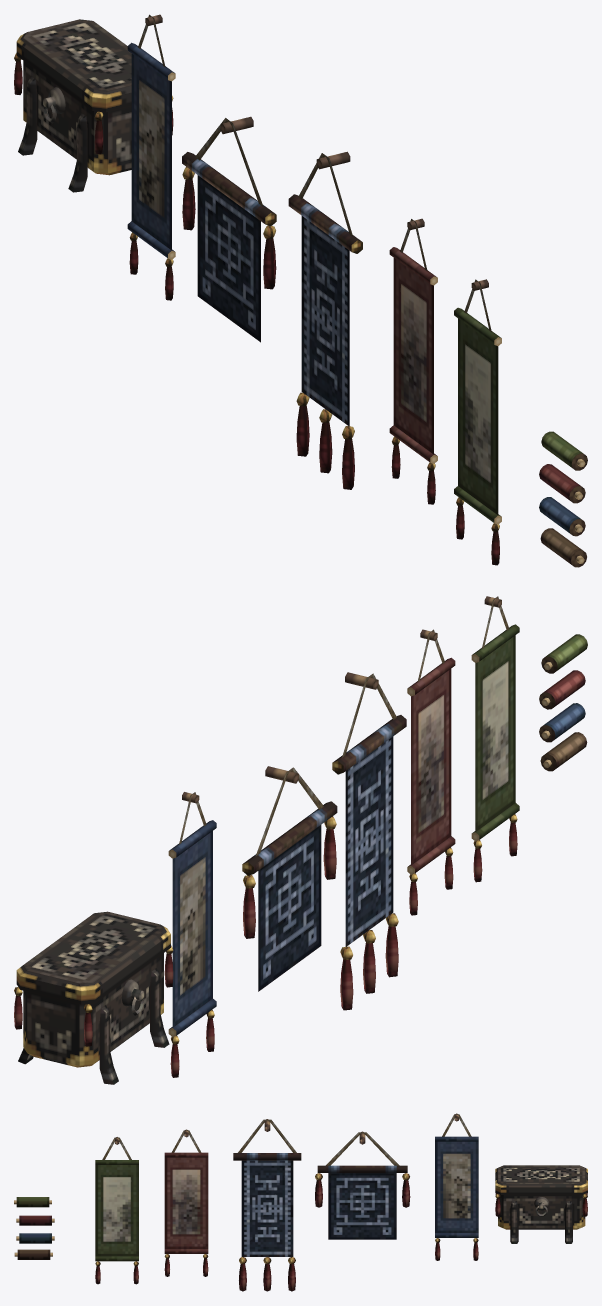
File: EnvObjMD_Treasure_B_ClothesBox_A.FBX
The picture shows the model from 3 angles, top to bottom: view 1: azimuth 30°, elevation 25°; view 2: azimuth 150°, elevation 25°; view 3: azimuth 270°, elevation 25°; orthographic projection. The views are drawn at different scales.
Parts seen in each view (by area): view 1: EnvObjMD_Treasure_B_ClothesBox_A, EnvObjMD_Treasure_B_Tapestry_A, EnvObjMD_Treasure_B_Tapestry_B, EnvObjMD_Treasure_B_HangingScroll_A_Red, EnvObjMD_Treasure_B_HangingScroll_A_Blue, EnvObjMD_Treasure_B_HangingScroll_A_Green, EnvObjMD_Treasure_B_Scroll_Brown, EnvObjMD_Treasure_B_Scroll_Red, EnvObjMD_Treasure_B_Scroll_Green, EnvObjMD_Treasure_B_Scroll_Blue; view 2: EnvObjMD_Treasure_B_ClothesBox_A, EnvObjMD_Treasure_B_Tapestry_A, EnvObjMD_Treasure_B_Tapestry_B, EnvObjMD_Treasure_B_HangingScroll_A_Red, EnvObjMD_Treasure_B_HangingScroll_A_Green, EnvObjMD_Treasure_B_HangingScroll_A_Blue, EnvObjMD_Treasure_B_Scroll_Blue, EnvObjMD_Treasure_B_Scroll_Brown, EnvObjMD_Treasure_B_Scroll_Green, EnvObjMD_Treasure_B_Scroll_Red; view 3: EnvObjMD_Treasure_B_Tapestry_A, EnvObjMD_Treasure_B_Tapestry_B, EnvObjMD_Treasure_B_ClothesBox_A, EnvObjMD_Treasure_B_HangingScroll_A_Red, EnvObjMD_Treasure_B_HangingScroll_A_Blue, EnvObjMD_Treasure_B_HangingScroll_A_Green, EnvObjMD_Treasure_B_Scroll_Brown, EnvObjMD_Treasure_B_Scroll_Blue, EnvObjMD_Treasure_B_Scroll_Red, EnvObjMD_Treasure_B_Scroll_Green.
Part boxes in pixels (<box>): EnvObjMD_Treasure_B_ClothesBox_A: <box>14,19,173,192</box>; EnvObjMD_Treasure_B_Tapestry_A: <box>288,151,362,489</box>; EnvObjMD_Treasure_B_Tapestry_B: <box>182,116,276,342</box>; EnvObjMD_Treasure_B_HangingScroll_A_Red: <box>389,218,437,504</box>; EnvObjMD_Treasure_B_HangingScroll_A_Blue: <box>127,14,175,300</box>; EnvObjMD_Treasure_B_HangingScroll_A_Green: <box>454,279,501,565</box>; EnvObjMD_Treasure_B_Scroll_Brown: <box>540,528,586,567</box>; EnvObjMD_Treasure_B_Scroll_Red: <box>539,464,585,503</box>; EnvObjMD_Treasure_B_Scroll_Green: <box>541,431,587,470</box>; EnvObjMD_Treasure_B_Scroll_Blue: <box>539,497,585,536</box>; EnvObjMD_Treasure_B_ClothesBox_A: <box>14,911,173,1084</box>; EnvObjMD_Treasure_B_Tapestry_A: <box>332,672,406,1010</box>; EnvObjMD_Treasure_B_Tapestry_B: <box>242,766,337,991</box>; EnvObjMD_Treasure_B_HangingScroll_A_Red: <box>407,629,455,915</box>; EnvObjMD_Treasure_B_HangingScroll_A_Green: <box>471,596,519,882</box>; EnvObjMD_Treasure_B_HangingScroll_A_Blue: <box>168,792,216,1077</box>; EnvObjMD_Treasure_B_Scroll_Blue: <box>539,703,585,742</box>; EnvObjMD_Treasure_B_Scroll_Brown: <box>540,732,587,771</box>; EnvObjMD_Treasure_B_Scroll_Green: <box>541,634,587,673</box>; EnvObjMD_Treasure_B_Scroll_Red: <box>539,670,585,709</box>; EnvObjMD_Treasure_B_Tapestry_A: <box>233,1119,301,1291</box>; EnvObjMD_Treasure_B_Tapestry_B: <box>315,1131,410,1239</box>; EnvObjMD_Treasure_B_ClothesBox_A: <box>495,1165,587,1243</box>; EnvObjMD_Treasure_B_HangingScroll_A_Red: <box>164,1129,208,1276</box>; EnvObjMD_Treasure_B_HangingScroll_A_Blue: <box>435,1113,478,1260</box>; EnvObjMD_Treasure_B_HangingScroll_A_Green: <box>95,1137,138,1284</box>; EnvObjMD_Treasure_B_Scroll_Brown: <box>14,1249,52,1259</box>; EnvObjMD_Treasure_B_Scroll_Blue: <box>16,1233,54,1243</box>; EnvObjMD_Treasure_B_Scroll_Red: <box>16,1215,54,1225</box>; EnvObjMD_Treasure_B_Scroll_Green: <box>14,1197,51,1207</box>.
Size of the model in its own units: 115 by 356 by 1053.
